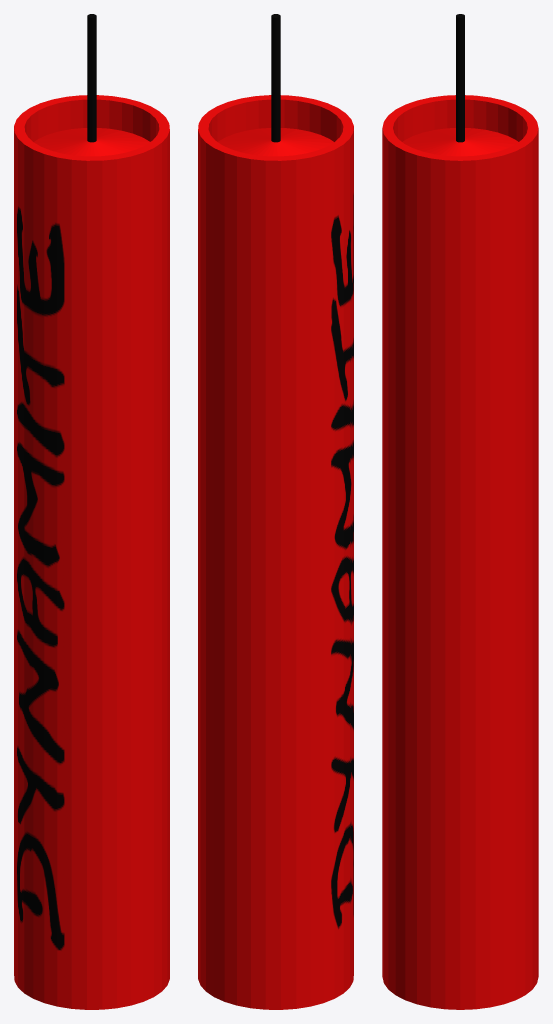
The model's file is dynamite.fbx.
3 views of the same model, side by side, from view 1: azimuth 30°, elevation 25°; view 2: azimuth 150°, elevation 25°; view 3: azimuth 270°, elevation 25° (orthographic).
Visible parts, largest first — view 1: Cylinder; view 2: Cylinder; view 3: Cylinder.
Boxes of the visible parts, left/top/right/bottom form: Cylinder: left=14, top=14, right=169, bottom=1009; Cylinder: left=198, top=14, right=353, bottom=1009; Cylinder: left=382, top=14, right=538, bottom=1009.
Size of the model in its own units: 5 by 33.96 by 5.
Materials: 1 (1 with a texture image).
